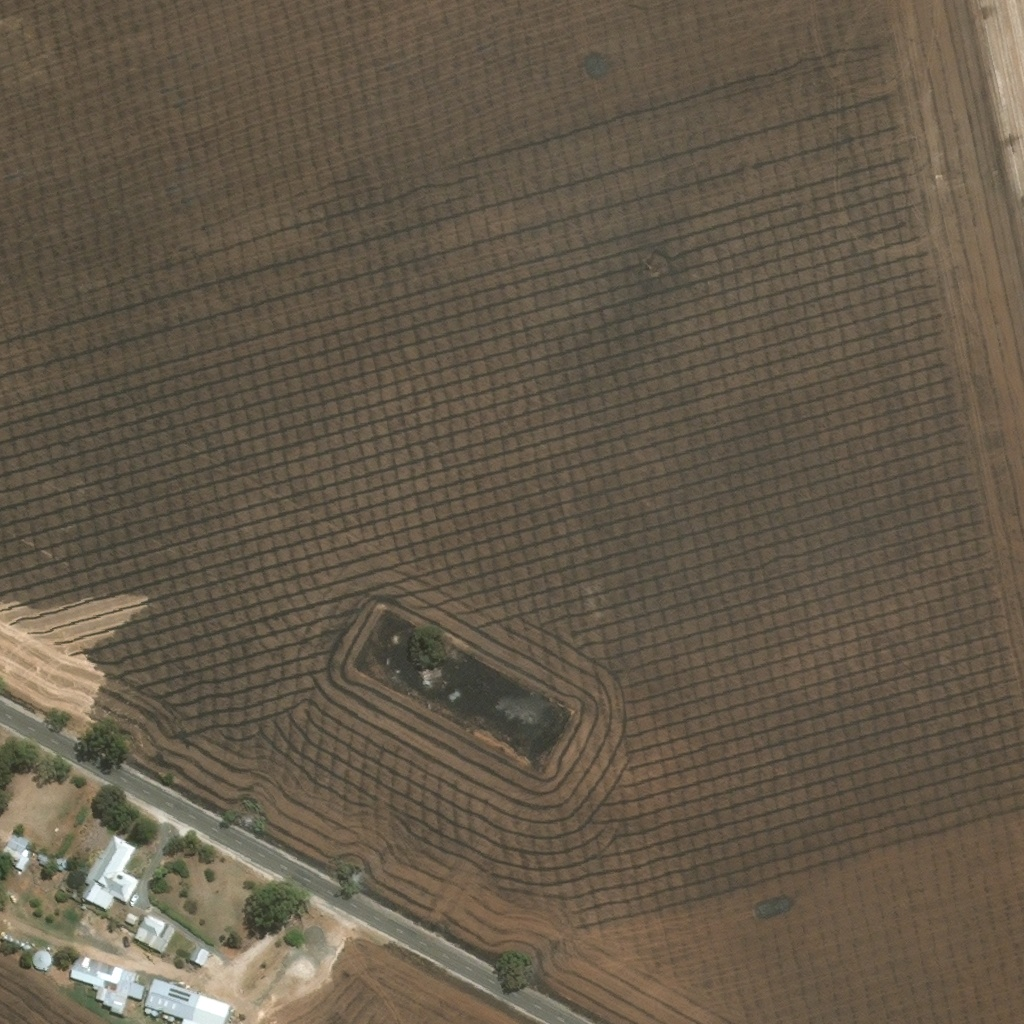0 no-damage: (69, 954, 146, 1017), (78, 836, 140, 914), (145, 978, 232, 1023), (133, 914, 177, 954), (0, 832, 31, 874), (36, 852, 69, 873), (190, 946, 210, 968), (32, 951, 52, 971), (125, 914, 139, 926), (144, 1007, 159, 1018), (2, 934, 8, 940), (20, 942, 26, 948), (46, 947, 51, 953), (9, 937, 14, 943), (15, 940, 20, 945)
4 un-classified: (409, 1007, 420, 1018)
